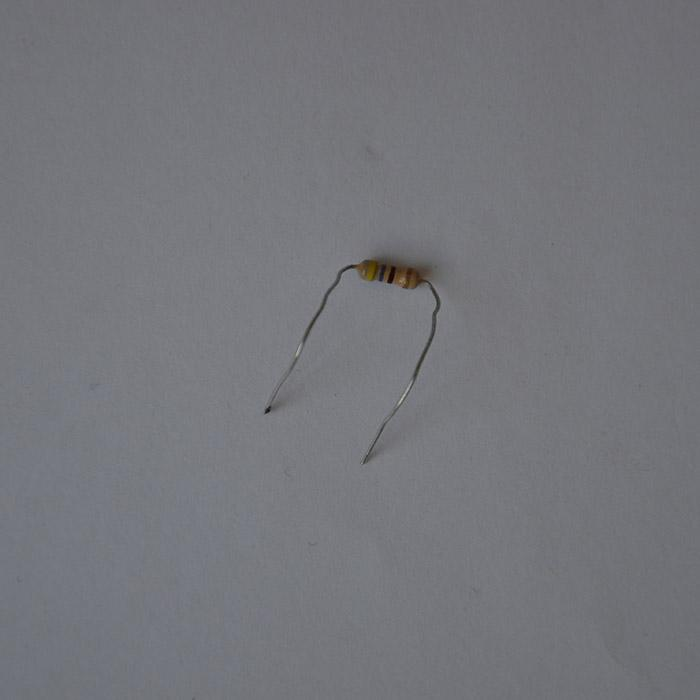resistor: (356, 259, 423, 289)
